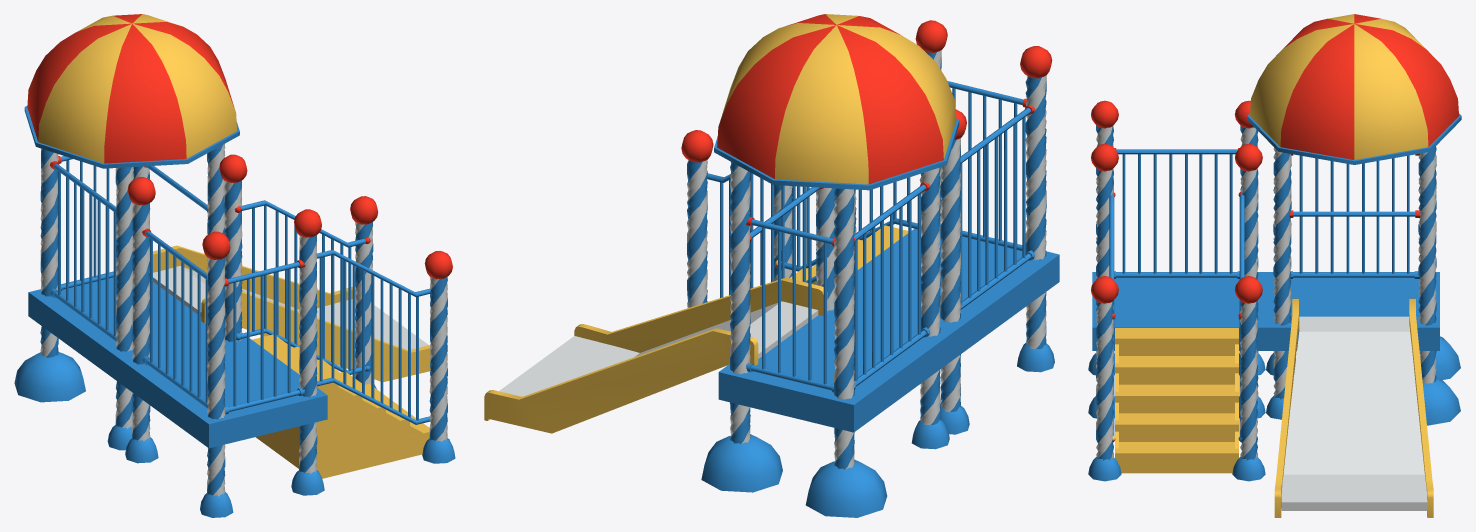
File: Toboggan.fbx
3 renders of one model, left to right at view 1: azimuth 30°, elevation 25°; view 2: azimuth 150°, elevation 25°; view 3: azimuth 270°, elevation 25°, orthographic. The views are drawn at different scales.
Visible parts, largest first — view 1: Poteaux.009, Toit, Barrieres, Sol, Escalier, Toboggan, Pieds, Boules; view 2: Toit, Poteaux.009, Sol, Barrieres, Toboggan, Pieds, Boules, Escalier; view 3: Toboggan, Toit, Escalier, Poteaux.009, Sol, Barrieres, Pieds, Boules.
Part boxes in pixels (x1,y1,x2,y2): Poteaux.009: [40, 144, 447, 496]; Toit: [24, 14, 239, 168]; Barrieres: [50, 156, 430, 424]; Sol: [28, 271, 327, 448]; Escalier: [252, 334, 429, 478]; Toboggan: [149, 245, 430, 381]; Pieds: [14, 352, 455, 517]; Boules: [127, 154, 452, 279]; Toit: [714, 14, 959, 190]; Poteaux.009: [687, 50, 1046, 469]; Sol: [718, 228, 1059, 432]; Barrieres: [707, 81, 1034, 392]; Toboggan: [484, 277, 827, 433]; Pieds: [701, 343, 1054, 517]; Boules: [681, 20, 1052, 162]; Escalier: [789, 225, 908, 284]; Toboggan: [1274, 298, 1433, 517]; Toit: [1247, 14, 1461, 164]; Escalier: [1115, 328, 1238, 473]; Poteaux.009: [1096, 125, 1436, 460]; Sol: [1092, 272, 1439, 350]; Barrieres: [1109, 148, 1420, 442]; Pieds: [1088, 336, 1460, 481]; Boules: [1091, 100, 1262, 303].
Size of the model in its own units: 315 by 315 by 290.
